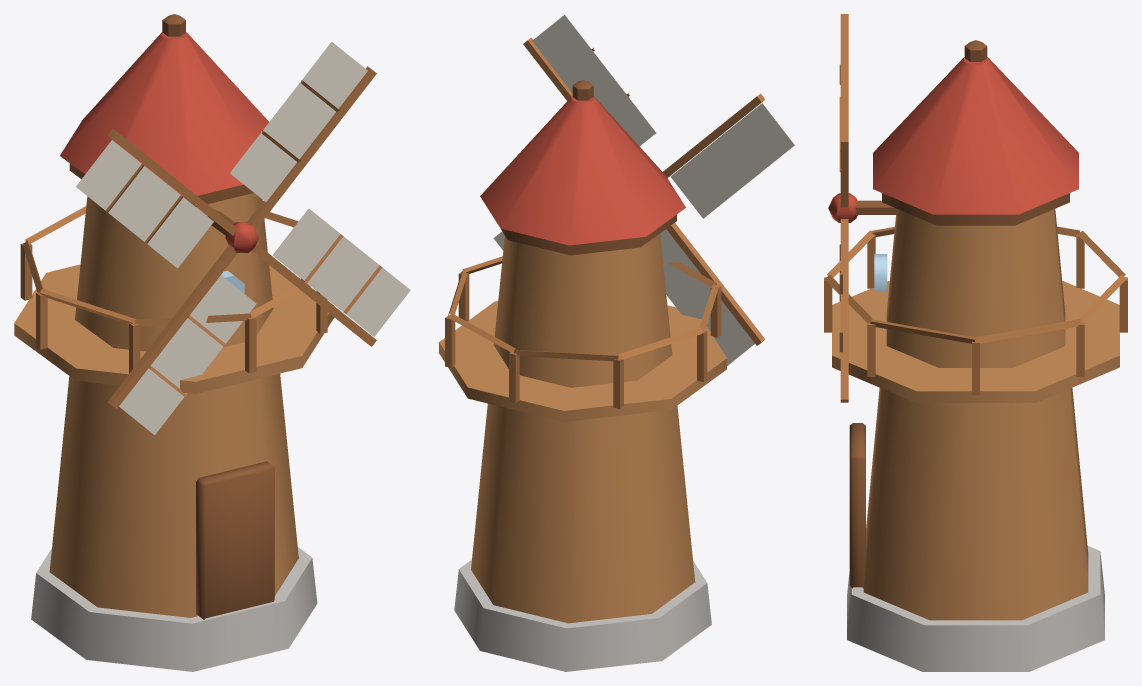
File: windmill.glb
3 renders of one model, left to right at view 1: azimuth 30°, elevation 25°; view 2: azimuth 150°, elevation 25°; view 3: azimuth 270°, elevation 25°, orthographic. The views are drawn at different scales.
Parts seen in each view (by area): view 1: windmill, sails; view 2: windmill, sails; view 3: windmill, sails.
Boxes of the visible parts, x1=… form: windmill: x1=14, y1=14, x2=334, y2=671; sails: x1=76, y1=42, x2=410, y2=434; windmill: x1=439, y1=80, x2=726, y2=671; sails: x1=493, y1=15, x2=794, y2=365; windmill: x1=824, y1=40, x2=1127, y2=671; sails: x1=828, y1=14, x2=857, y2=402.
Size of the model in its own units: 2.28 by 3.89 by 1.85.
1 material, 1 textured.
